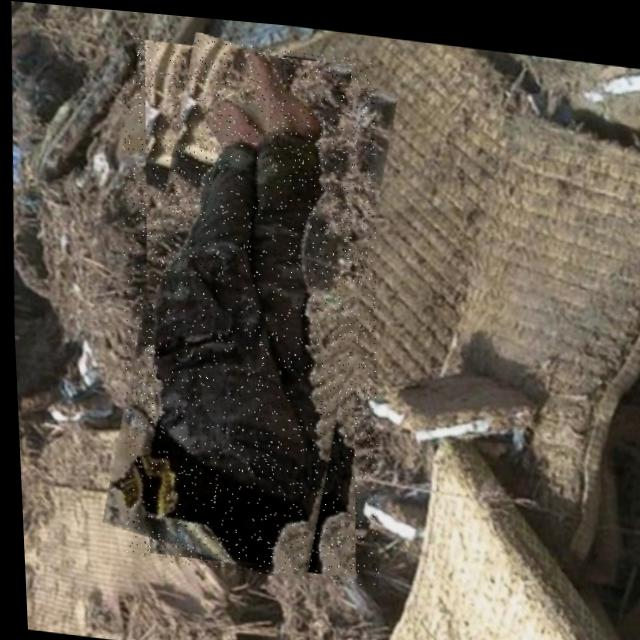Person in Rubble: (103, 25, 391, 581)
